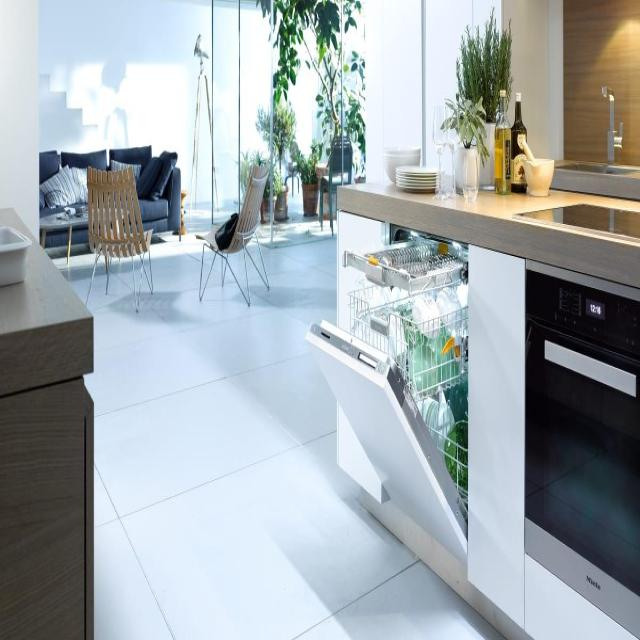dishwasher: (304, 243, 470, 579)
